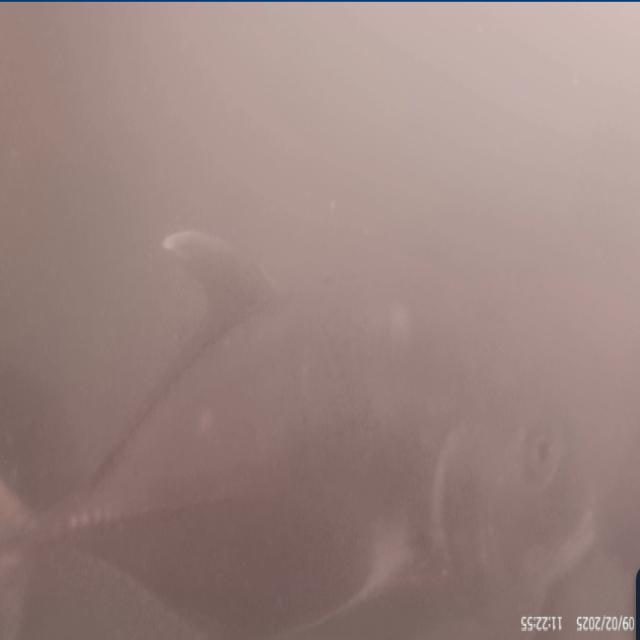ikan: (44, 224, 612, 611)
